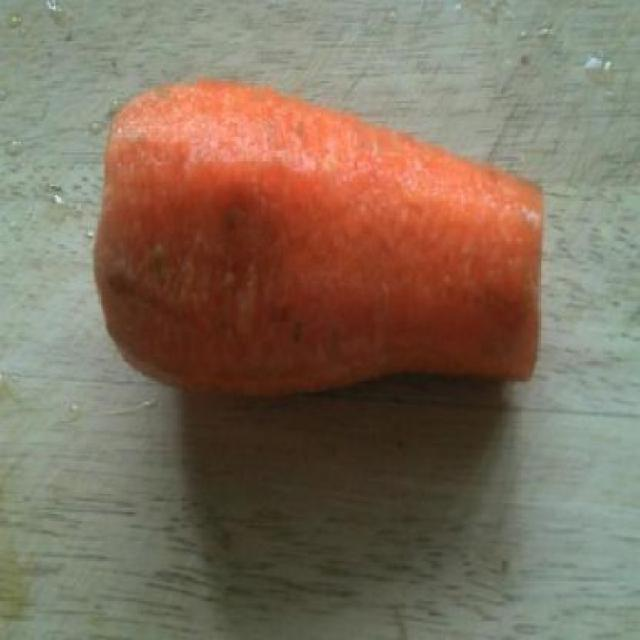carrot: (95, 76, 547, 400)
